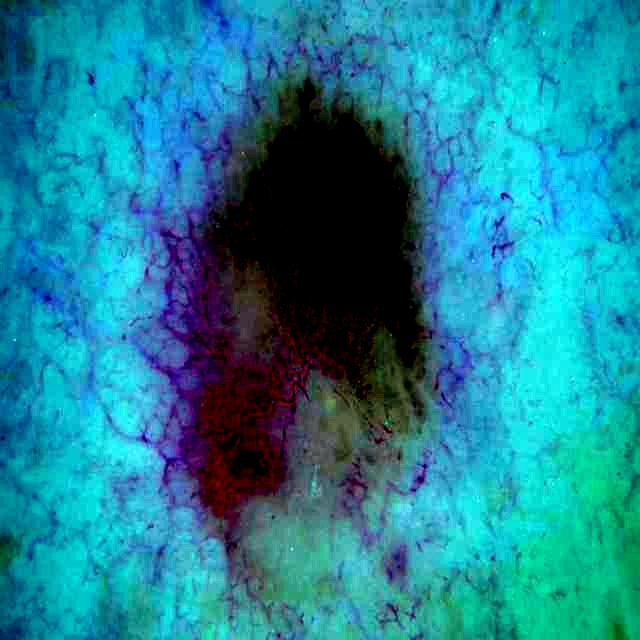BCC: (132, 82, 450, 637)
